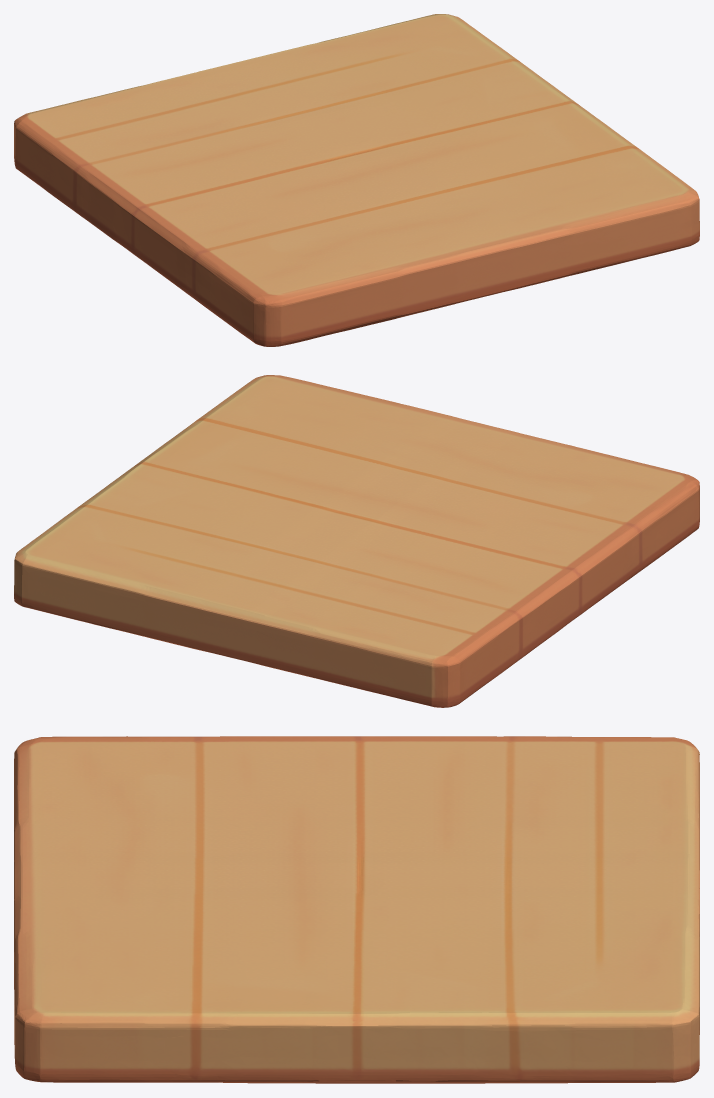
The picture shows the model from 3 angles, top to bottom: view 1: azimuth 30°, elevation 25°; view 2: azimuth 150°, elevation 25°; view 3: azimuth 270°, elevation 25°; orthographic projection. The views are drawn at different scales.
Parts seen in each view (by area): view 1: world; view 2: world; view 3: world.
Boxes of the visible parts, x1,y1,x2,y2 form: world: (14, 14, 699, 346); world: (14, 375, 699, 707); world: (14, 736, 699, 1083).
Size of the model in its own units: 99.8 by 11.07 by 100.
1 material, 1 textured.
